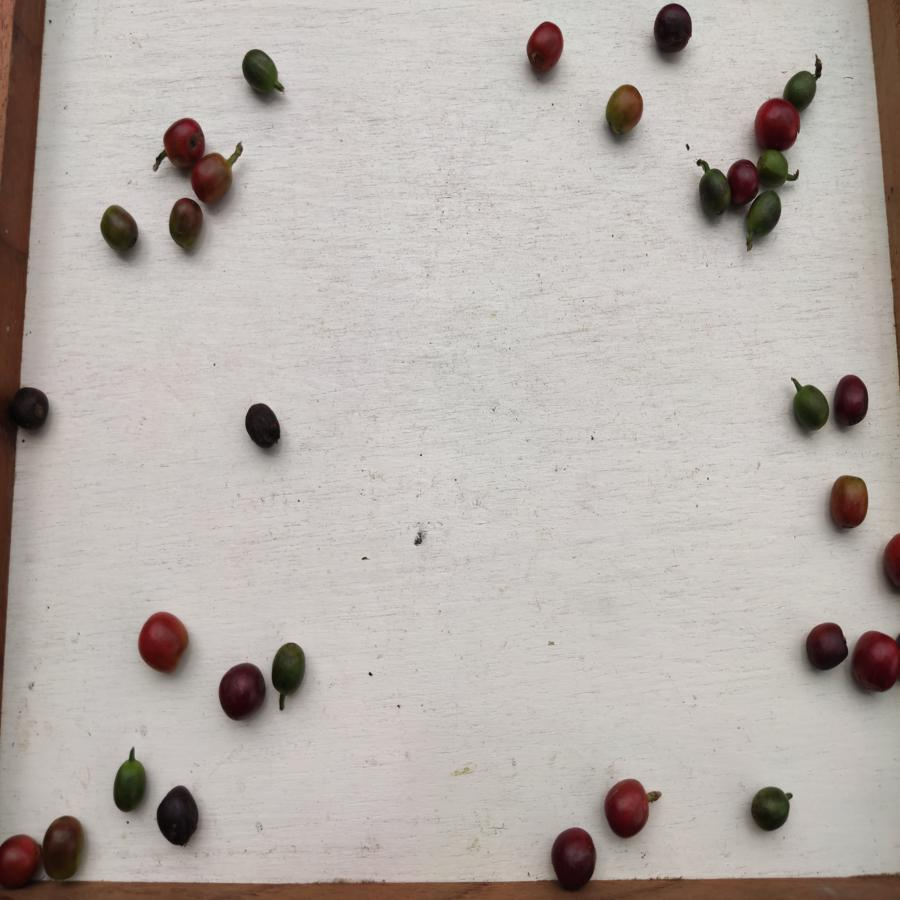Inmaduro: (241, 47, 286, 102), (750, 784, 795, 837), (787, 386, 832, 437), (271, 642, 311, 697), (746, 194, 789, 245), (114, 760, 149, 815), (695, 168, 732, 212), (760, 151, 798, 189), (786, 69, 820, 109)
Maduro: (133, 608, 197, 677), (852, 629, 894, 692), (604, 780, 653, 834), (1, 831, 41, 888), (752, 98, 801, 144), (527, 18, 563, 78), (162, 119, 195, 167)
Pinton: (827, 471, 871, 532), (46, 813, 86, 879), (166, 199, 210, 252), (605, 82, 648, 134), (101, 205, 143, 252), (194, 158, 238, 199)
Sobremaduro: (152, 784, 209, 850), (214, 661, 265, 724), (549, 827, 602, 886), (653, 1, 695, 58), (805, 621, 850, 674), (238, 404, 286, 451), (832, 373, 871, 428), (9, 383, 50, 433), (729, 157, 757, 204)
